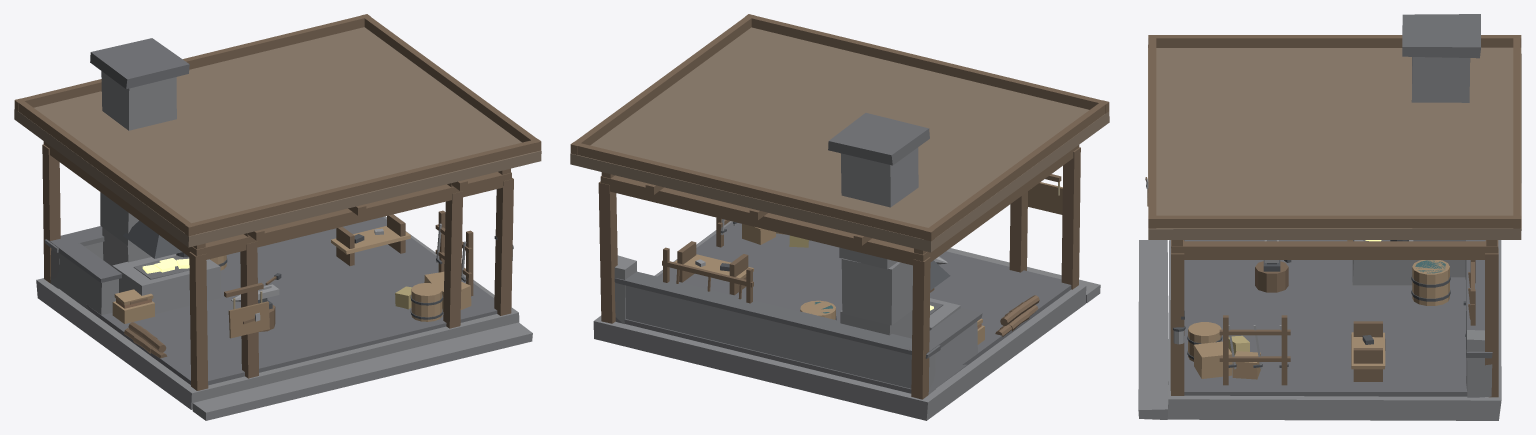
Rendered from BlacksmithShop_LowPoly.fbx.
3 renders of one model, left to right at view 1: azimuth 30°, elevation 25°; view 2: azimuth 150°, elevation 25°; view 3: azimuth 270°, elevation 25°, orthographic. The views are drawn at different scales.
Parts seen in each view (by area): view 1: Smith_Roof__SmithRoof, Smith_Base__SmithStoneDark, Smith_Frame__SmithWoodBeam, Smith_Base__SmithStone, Smith_Roof__SmithWoodBeam, Smith_Chimney__SmithStone, Smith_Props__SmithWoodPlank, Smith_Chimney__SmithStoneDark, Smith_Props__SmithWoodBeam, Smith_Forge__SmithStone, Smith_Wall__SmithStone, Smith_Wall__SmithStoneDark (+2 smaller); view 2: Smith_Roof__SmithRoof, Smith_Base__SmithStoneDark, Smith_Roof__SmithWoodBeam, Smith_Frame__SmithWoodBeam, Smith_Base__SmithStone, Smith_Wall__SmithStone, Smith_Chimney__SmithStone, Smith_Wall__SmithStoneDark, Smith_Chimney__SmithStoneDark, Smith_Props__SmithWoodBeam, Smith_Props__SmithWoodPlank, Smith_Props__SmithSign; view 3: Smith_Roof__SmithRoof, Smith_Base__SmithStoneDark, Smith_Base__SmithStone, Smith_Roof__SmithWoodBeam, Smith_Frame__SmithWoodBeam, Smith_Props__SmithWoodPlank, Smith_Props__SmithWoodBeam, Smith_Chimney__SmithStoneDark, Smith_Chimney__SmithStone, Smith_Forge__SmithStone, Smith_Wall__SmithStone, Smith_Wall__SmithStoneDark (+3 smaller).
Boxes of the visible parts, x1,y1,x2,y2 form: Smith_Roof__SmithRoof: (14,27,541,247); Smith_Base__SmithStoneDark: (61,217,497,385); Smith_Frame__SmithWoodBeam: (42,141,513,390); Smith_Base__SmithStone: (36,216,532,420); Smith_Roof__SmithWoodBeam: (14,14,541,249); Smith_Chimney__SmithStone: (100,71,176,266); Smith_Props__SmithWoodPlank: (112,226,471,323); Smith_Chimney__SmithStoneDark: (90,38,189,89); Smith_Props__SmithWoodBeam: (124,210,473,358); Smith_Forge__SmithStone: (112,254,220,313); Smith_Wall__SmithStone: (50,242,118,314); Smith_Wall__SmithStoneDark: (44,226,122,282); Smith_Roof__SmithRoof: (570,27,1109,252); Smith_Base__SmithStoneDark: (615,221,1071,393); Smith_Roof__SmithWoodBeam: (570,14,1109,254); Smith_Frame__SmithWoodBeam: (598,145,1080,399); Smith_Base__SmithStone: (593,221,1100,420); Smith_Wall__SmithStone: (614,255,977,394); Smith_Chimney__SmithStone: (839,147,918,338); Smith_Wall__SmithStoneDark: (614,271,982,358); Smith_Chimney__SmithStoneDark: (828,113,929,165); Smith_Props__SmithWoodBeam: (662,174,1061,336); Smith_Props__SmithWoodPlank: (674,224,984,344); Smith_Props__SmithSign: (1028,182,1062,214); Smith_Roof__SmithRoof: (1148,45,1521,239); Smith_Base__SmithStoneDark: (1184,240,1467,396); Smith_Base__SmithStone: (1138,240,1501,420); Smith_Roof__SmithWoodBeam: (1148,35,1521,246); Smith_Frame__SmithWoodBeam: (1170,240,1498,397); Smith_Props__SmithWoodPlank: (1188,240,1449,379); Smith_Props__SmithWoodBeam: (1145,177,1475,385); Smith_Chimney__SmithStoneDark: (1402,14,1480,58); Smith_Chimney__SmithStone: (1411,57,1470,277); Smith_Forge__SmithStone: (1352,240,1416,285); Smith_Wall__SmithStone: (1466,330,1492,397); Smith_Wall__SmithStoneDark: (1465,240,1492,358).
Bounding box in the file's own units: 1041 × 683 × 914.
